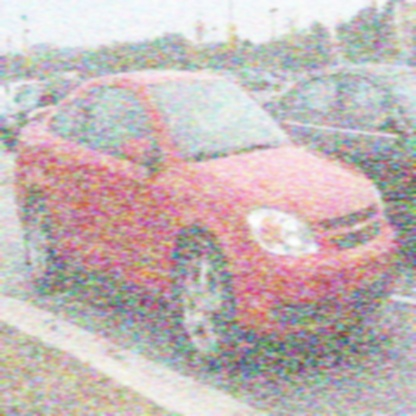Vehicle: (13, 69, 401, 374)
